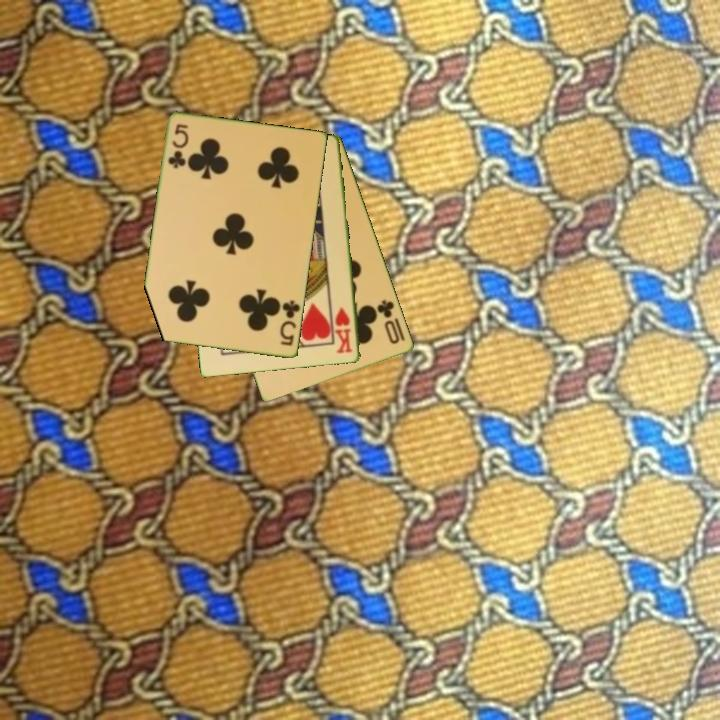10c: (373, 296, 403, 347)
5c: (277, 297, 303, 349), (165, 121, 191, 171)
Kh: (332, 304, 355, 356)
